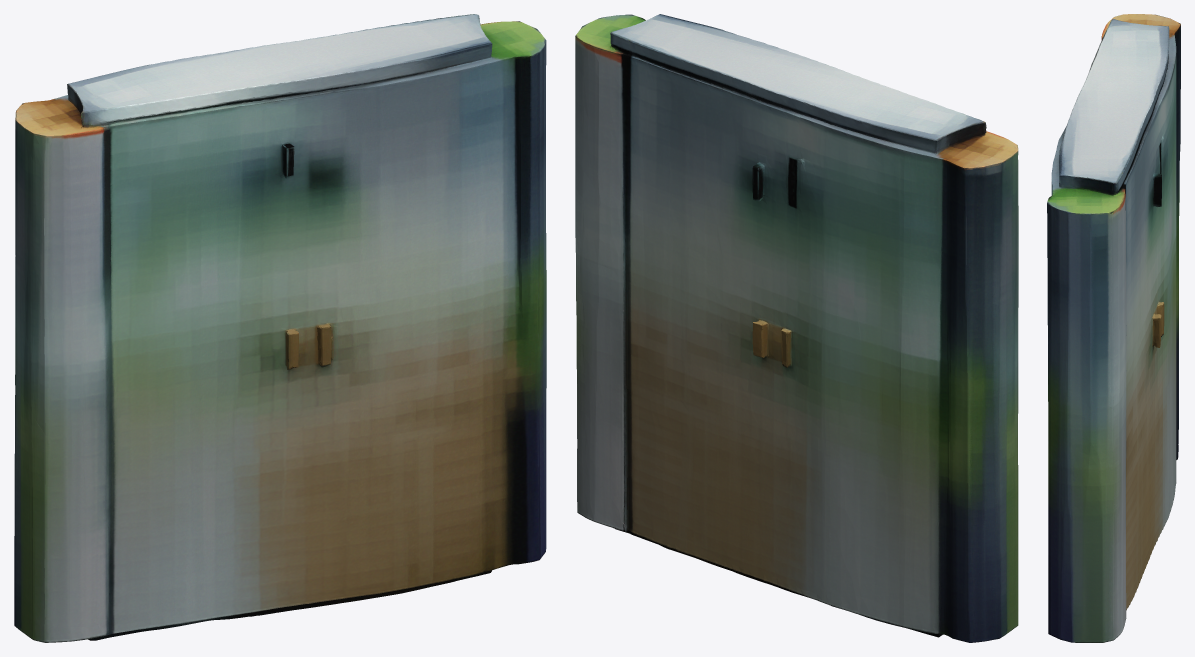
File: trellis_result.glb
The picture shows the model from 3 angles, left to right: view 1: azimuth 30°, elevation 25°; view 2: azimuth 150°, elevation 25°; view 3: azimuth 270°, elevation 25°; orthographic projection. The views are drawn at different scales.
Parts seen in each view (by area): view 1: world; view 2: world; view 3: world.
Part boxes in pixels (left/top/right/bottom): world: left=14, top=14, right=546, bottom=642; world: left=575, top=14, right=1018, bottom=642; world: left=1047, top=14, right=1180, bottom=642.
Size of the model in its own units: 0.9565 by 1 by 0.2694.
Materials: 1 (1 with a texture image).
